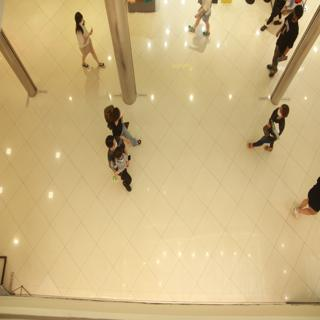person: (69, 11, 115, 78), (101, 126, 140, 195), (98, 101, 155, 144), (252, 98, 288, 156)
